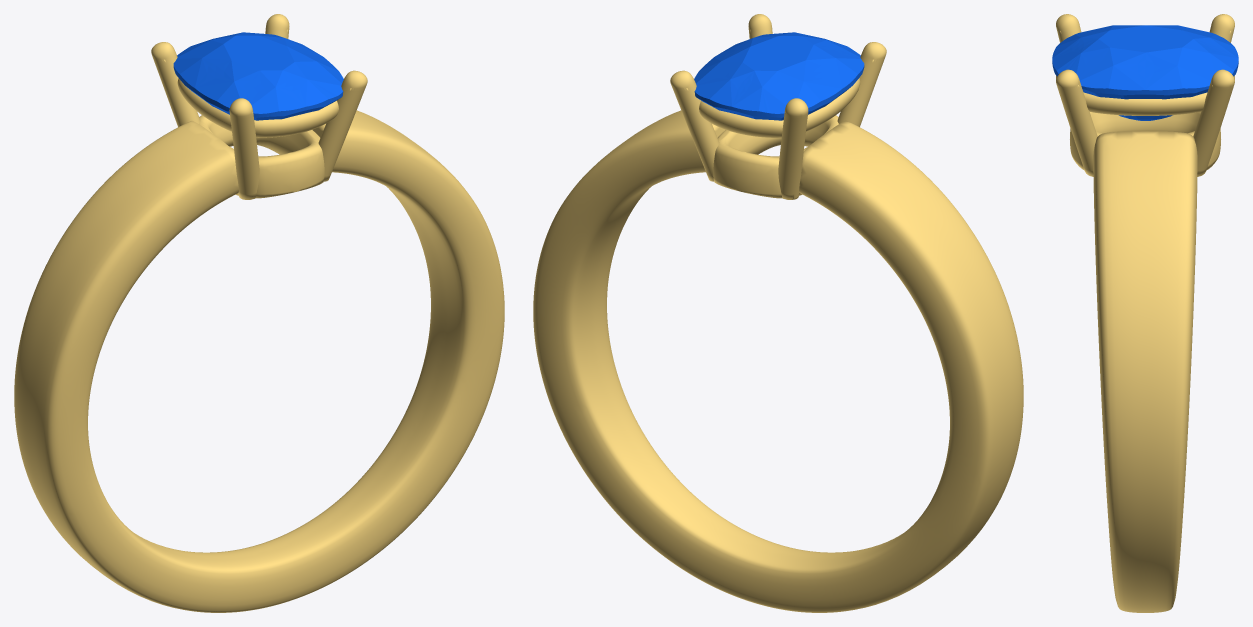
Rendered from bluesapphire-cushion-yellowgold-4prong-straighttaperedband-nosidestones.glb.
3 views of the same model, side by side, from view 1: azimuth 30°, elevation 25°; view 2: azimuth 150°, elevation 25°; view 3: azimuth 270°, elevation 25° (orthographic).
Parts seen in each view (by area): view 1: metal, stone; view 2: metal, stone; view 3: metal, stone.
Boxes of the visible parts, <box> form: metal: <box>14,14,504,612</box>; stone: <box>173,32,343,120</box>; metal: <box>533,14,1023,612</box>; stone: <box>694,32,864,120</box>; metal: <box>1056,14,1234,612</box>; stone: <box>1052,25,1238,120</box>.
Bounding box in the file's own units: 20.51 × 23.24 × 7.15.
